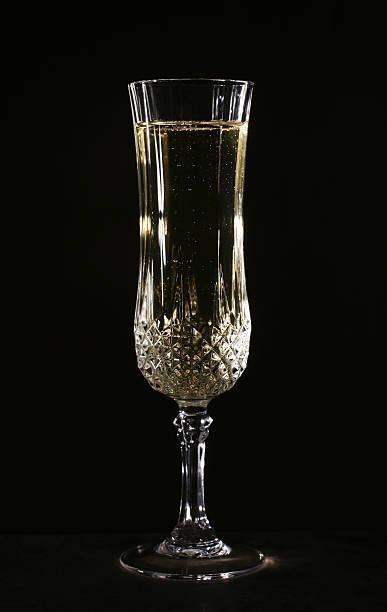glass-wine: (115, 76, 272, 581)
